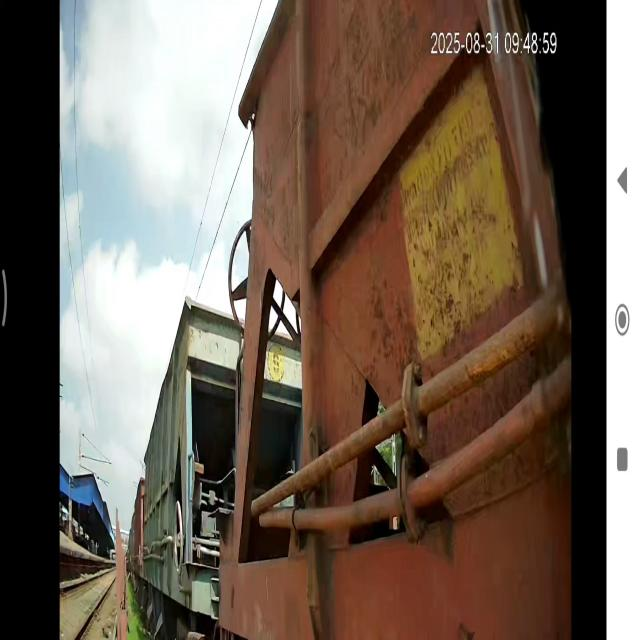joint: (157, 0, 323, 640)
